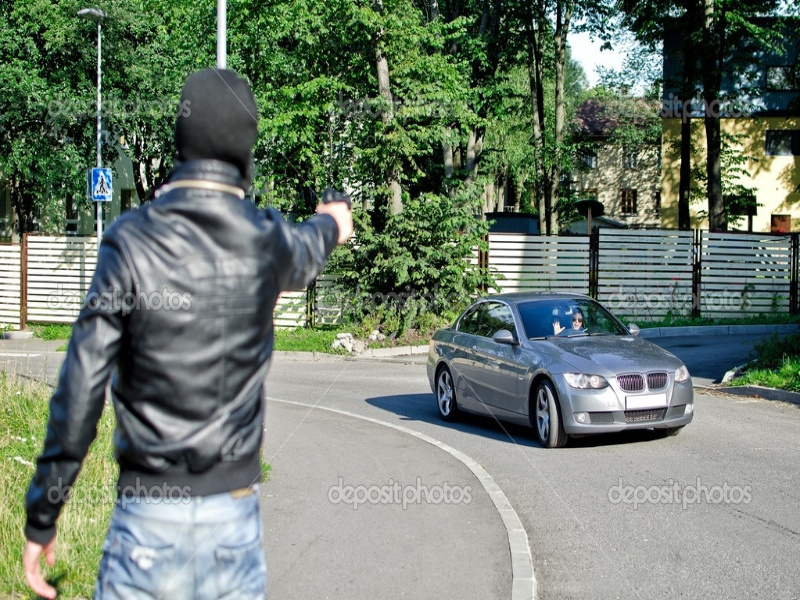gun: (312, 186, 355, 252)
